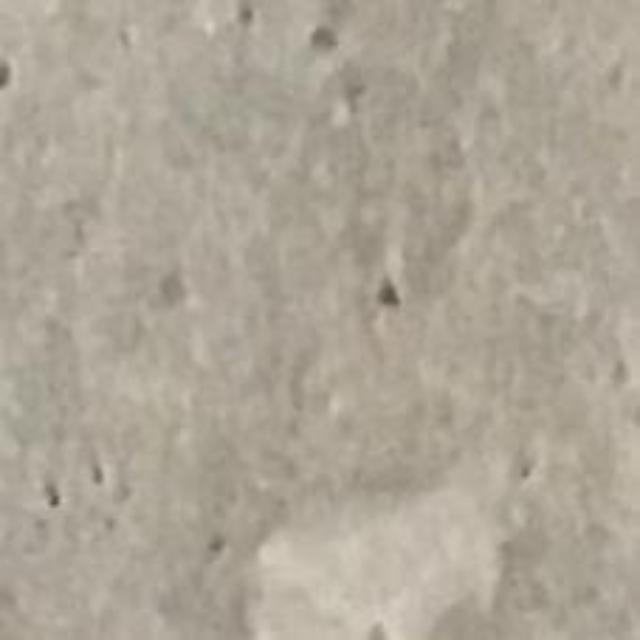peeling plaster: (249, 480, 501, 639)
